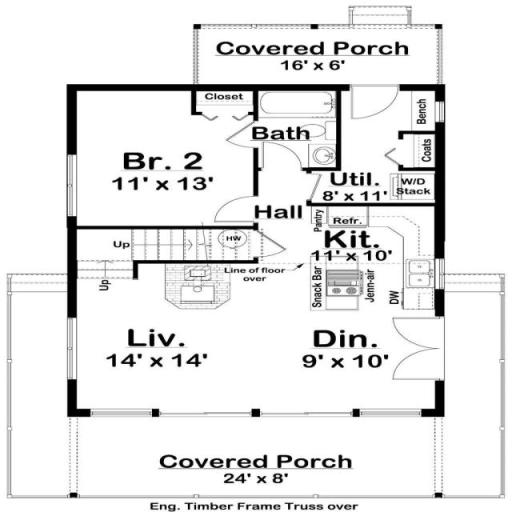bathroom: (263, 100, 358, 169)
bedroom: (78, 82, 252, 224)
closet: (378, 85, 434, 193)
hall: (98, 279, 446, 416)
kitchen: (273, 200, 446, 270)
porch: (76, 424, 447, 491), (198, 30, 442, 81)
